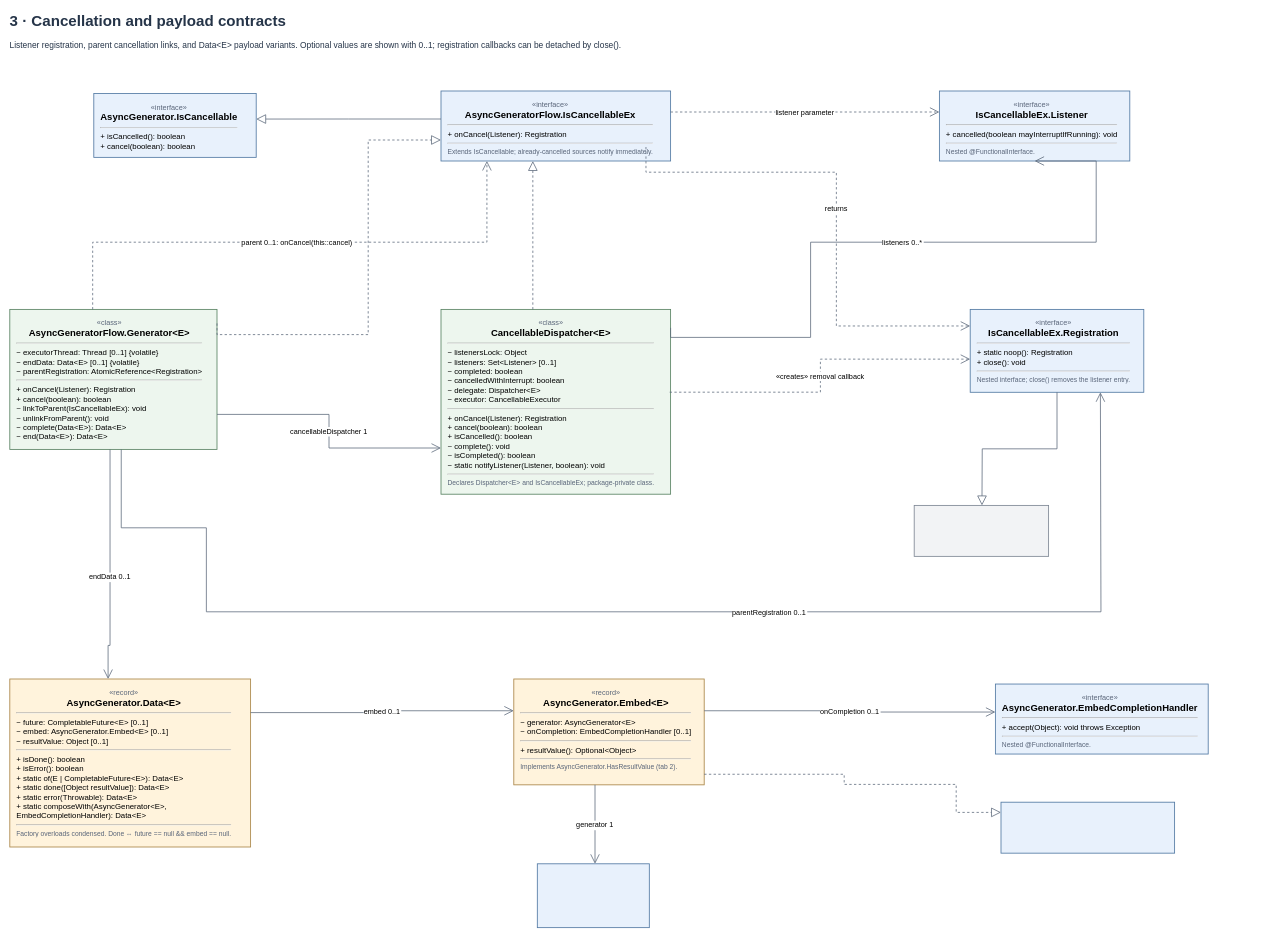
The diagram is 1263 pixels wide and 937 high, and some of its shapes have lost their labels. Here are the shapes that lost their labels. From the top down, the box of each, then its label:
(914, 505, 1049, 557): «JDK interface» AutoCloseable + close(): void throws Exception
(1000, 802, 1175, 853): «interface» AsyncGenerator.HasResultValue + resultValue(): Optional<Object>
(537, 863, 649, 928): «interface» AsyncGenerator<E> + next(): Data<E> + executor(): Executor
